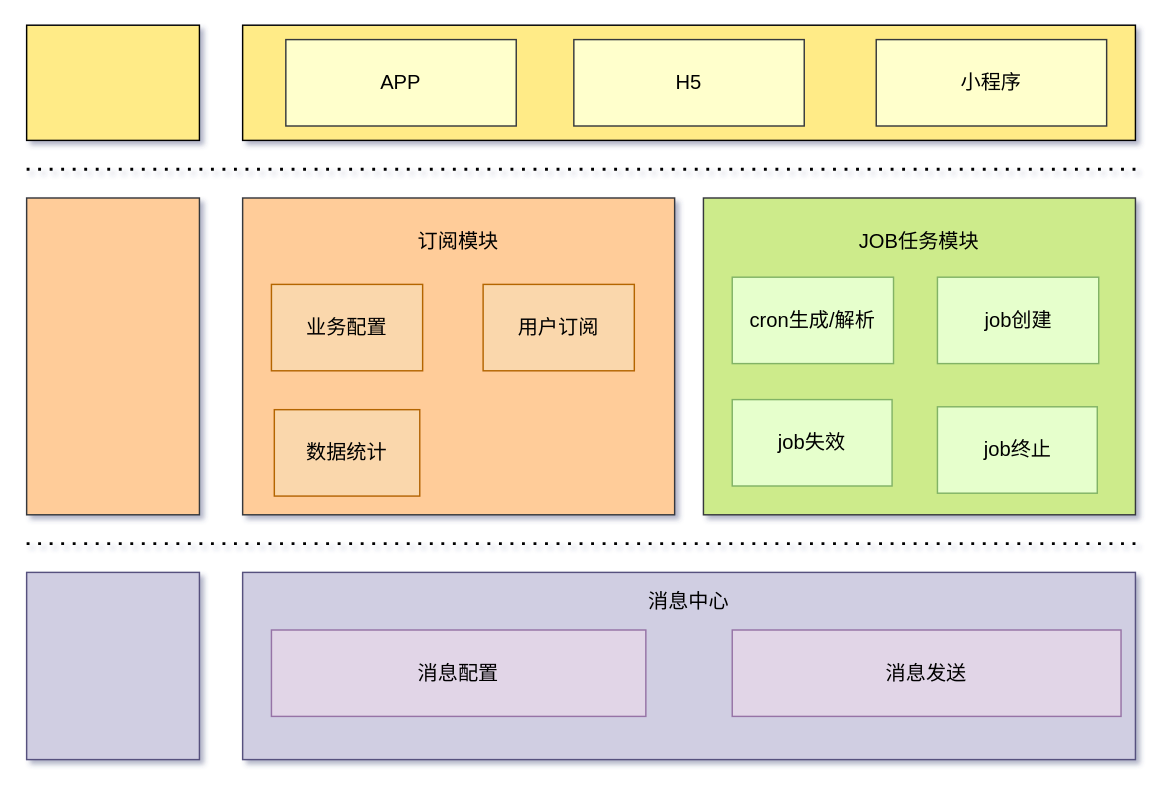
Image size: 1171x793. Some labels were removed from this diagram. The centre of each missing label's shape, as x and y in pixels:
业务层: the point at 112,356
基础层: the point at 112,665
应用层: the point at 112,82
